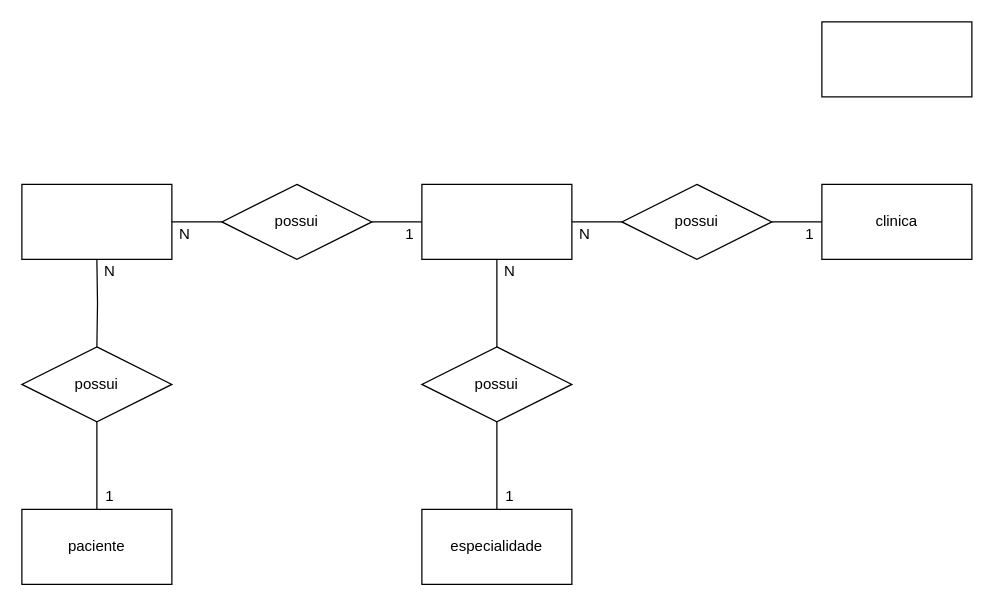
This 994x606 diagram has some shape labels left out. The box of each missing label's shape, as (x1, y1, x2, y2) in pixels:
consulta: (21, 183, 172, 259)
medico: (421, 183, 572, 259)
usuario: (821, 21, 972, 97)
